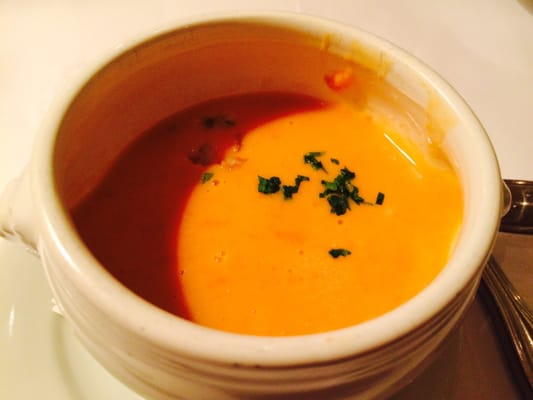sushi: (0, 4, 515, 400)
